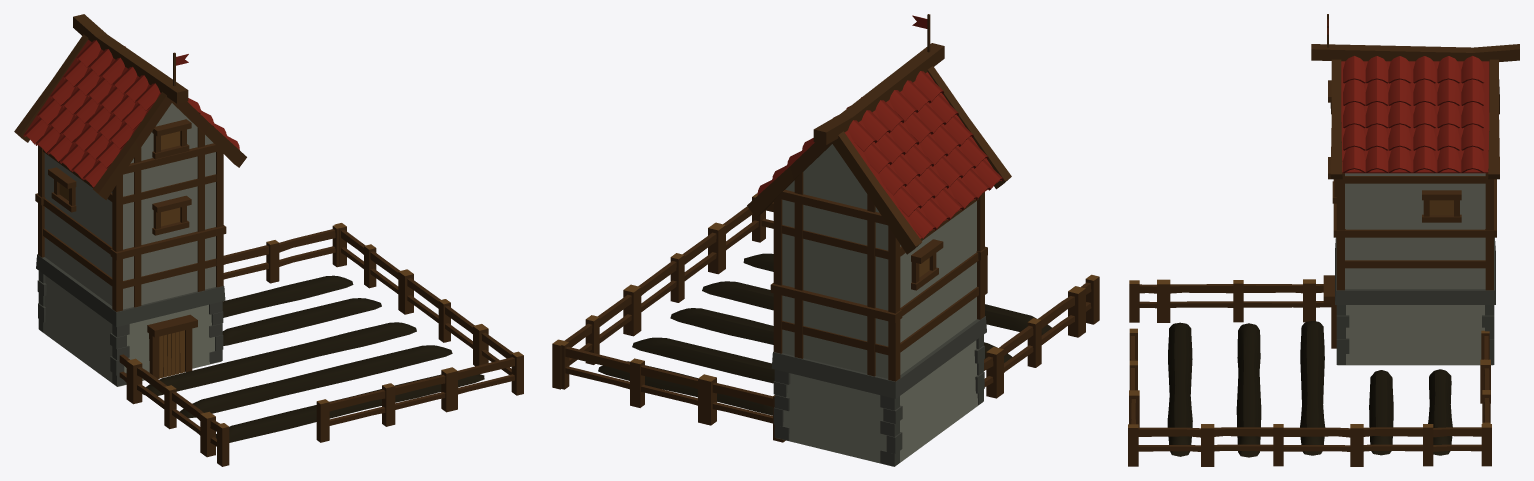
Rendered from Farm_SecondAge_Level3.obj.
The picture shows the model from 3 angles, left to right: view 1: azimuth 30°, elevation 25°; view 2: azimuth 150°, elevation 25°; view 3: azimuth 270°, elevation 25°; orthographic projection. The views are drawn at different scales.
Visible parts, largest first — view 1: Farm_SecondAge_Level3_Cube.046; view 2: Farm_SecondAge_Level3_Cube.046; view 3: Farm_SecondAge_Level3_Cube.046.
Part boxes in pixels (left/top/right/bottom): Farm_SecondAge_Level3_Cube.046: left=14, top=14, right=523, bottom=466; Farm_SecondAge_Level3_Cube.046: left=552, top=14, right=1099, bottom=466; Farm_SecondAge_Level3_Cube.046: left=1128, top=14, right=1519, bottom=466.
Bounding box in the file's own units: 1.91 × 1.84 × 1.98.
